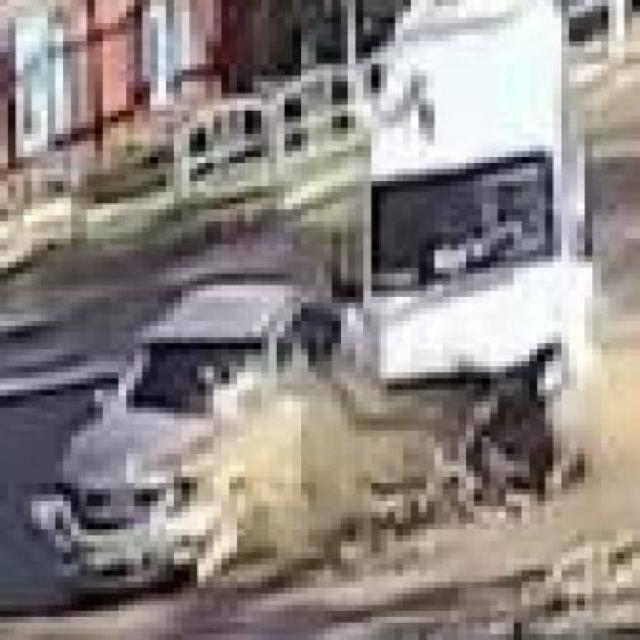accident: (21, 16, 613, 604)
